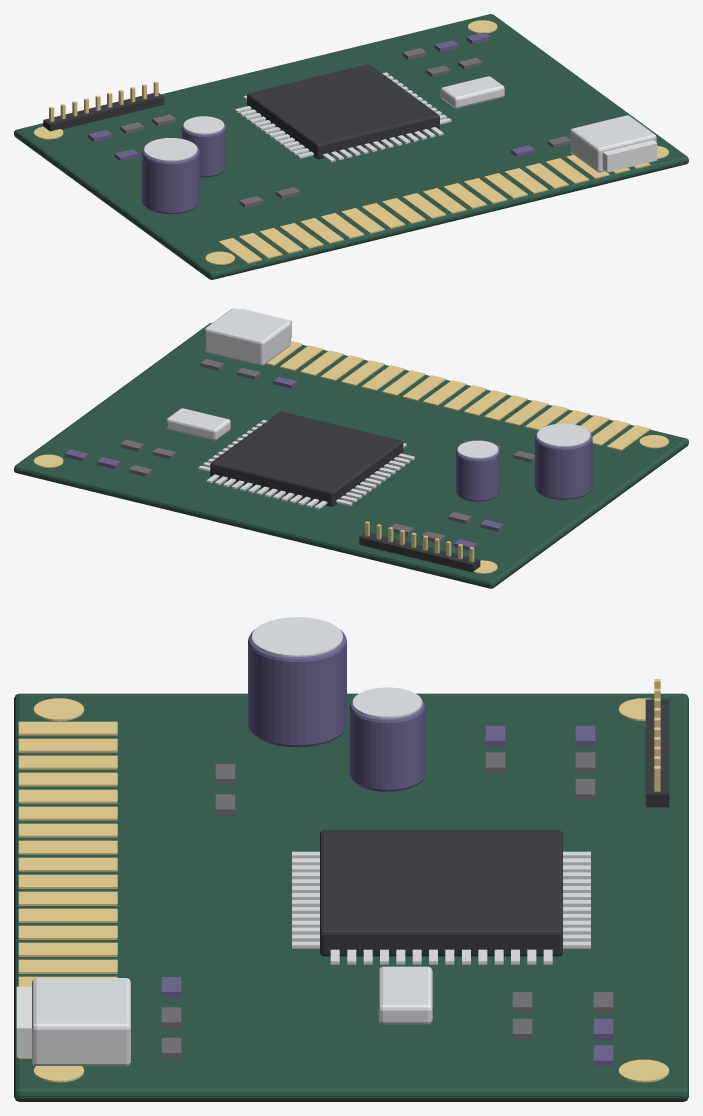
The model's file is pcb.glb.
The picture shows the model from 3 angles, top to bottom: view 1: azimuth 30°, elevation 25°; view 2: azimuth 150°, elevation 25°; view 3: azimuth 270°, elevation 25°; orthographic projection. The views are drawn at different scales.
Parts seen in each view (by area): view 1: DecoderBoard; view 2: DecoderBoard; view 3: DecoderBoard.
Boxes of the visible parts, x1,y1,x2,y2 form: DecoderBoard: (14,14,688,279); DecoderBoard: (14,308,688,588); DecoderBoard: (14,617,688,1101).
Size of the model in its own units: 0.105 by 0.0128 by 0.075.
